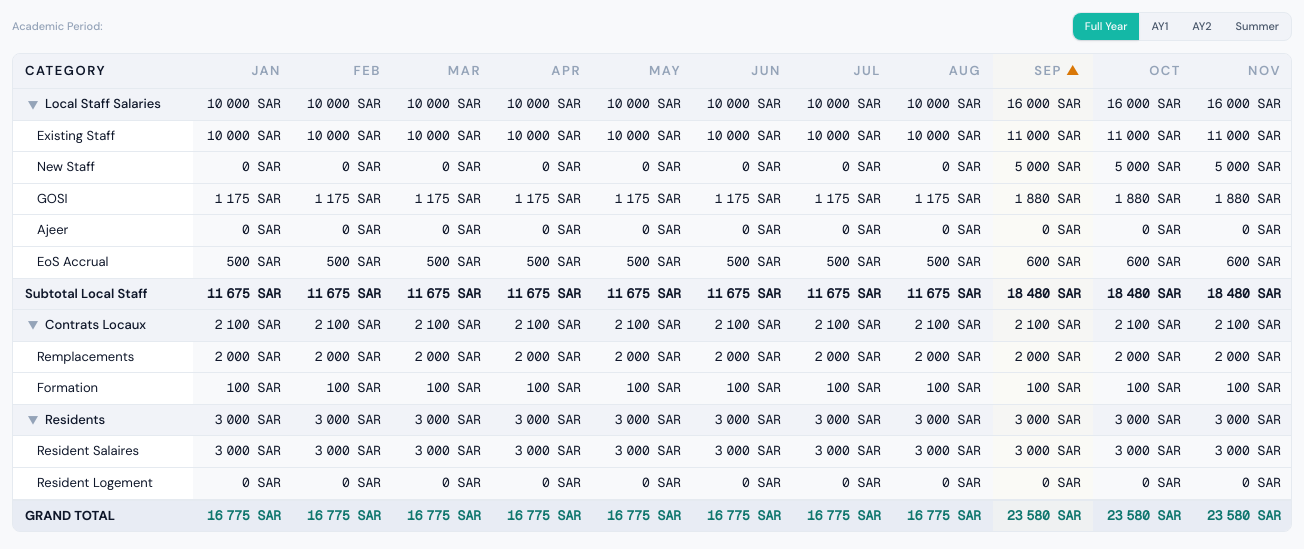
MonthlyCostBudgetGrid › AC-03: Academic period filter › shows only Sep-Dec when AY2 is selected
What coordinates should you click on to do the following:
click the radio button "AY2"
I would click on:
 (1202, 26)
Its box is 1180,13 -> 1224,40.
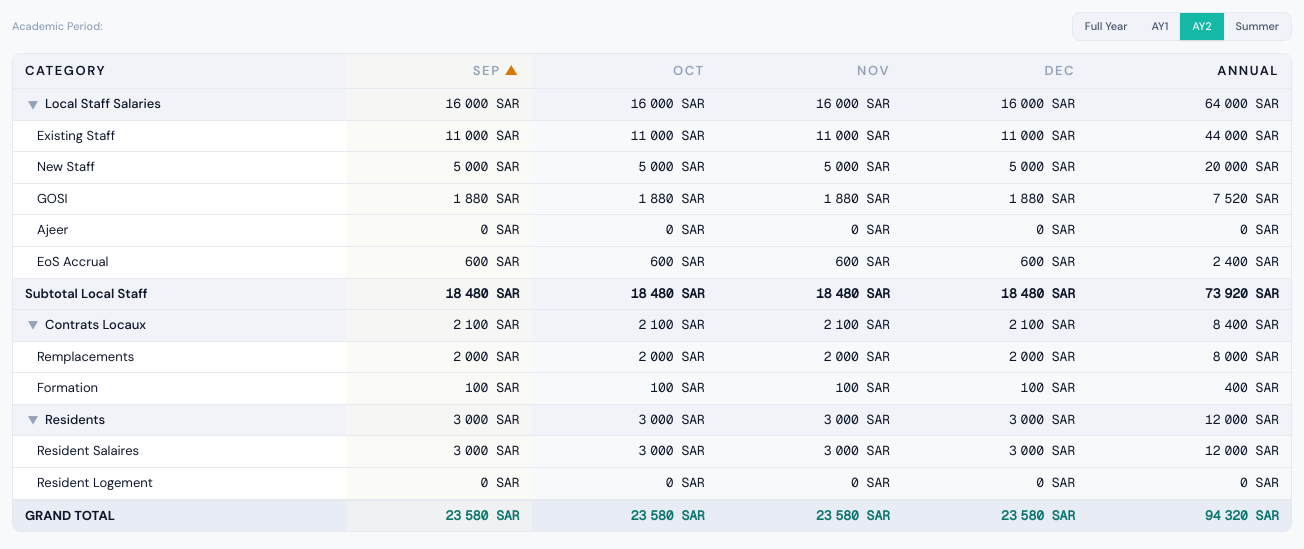
Expected: the text "Dec" is shown, 1044,62 -> 1075,80
Expected: the text "Jan" is gone
Expected: the text "Jun" is gone
